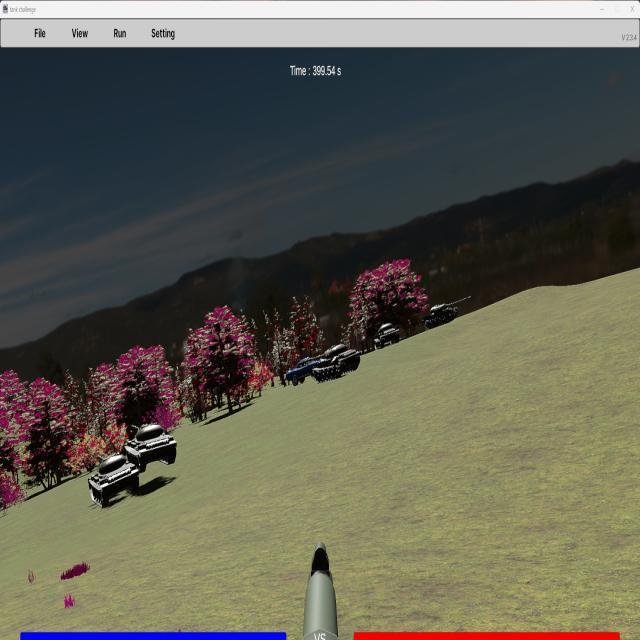Tank: (88, 454, 140, 507), (123, 423, 177, 472), (313, 343, 360, 383), (422, 296, 472, 329), (376, 322, 400, 349)
car: (285, 356, 323, 386)
